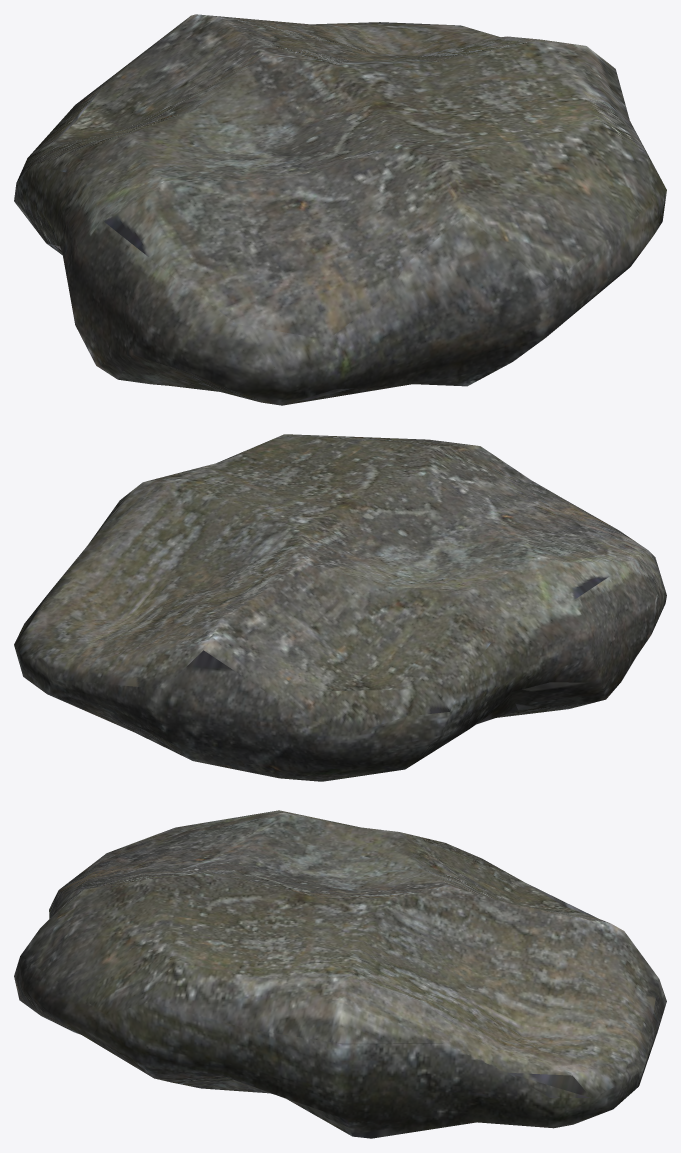
The model's file is Rock2.fbx.
3 views of the same model, one above another, from view 1: azimuth 30°, elevation 25°; view 2: azimuth 150°, elevation 25°; view 3: azimuth 270°, elevation 25° (orthographic). The views are drawn at different scales.
Parts seen in each view (by area): view 1: Rock.011; view 2: Rock.011; view 3: Rock.011.
Part boxes in pixels (bbox=[...]): Rock.011: bbox=[14, 14, 666, 405]; Rock.011: bbox=[14, 434, 666, 781]; Rock.011: bbox=[14, 810, 666, 1138].
Size of the model in its own units: 348 by 126 by 389.
